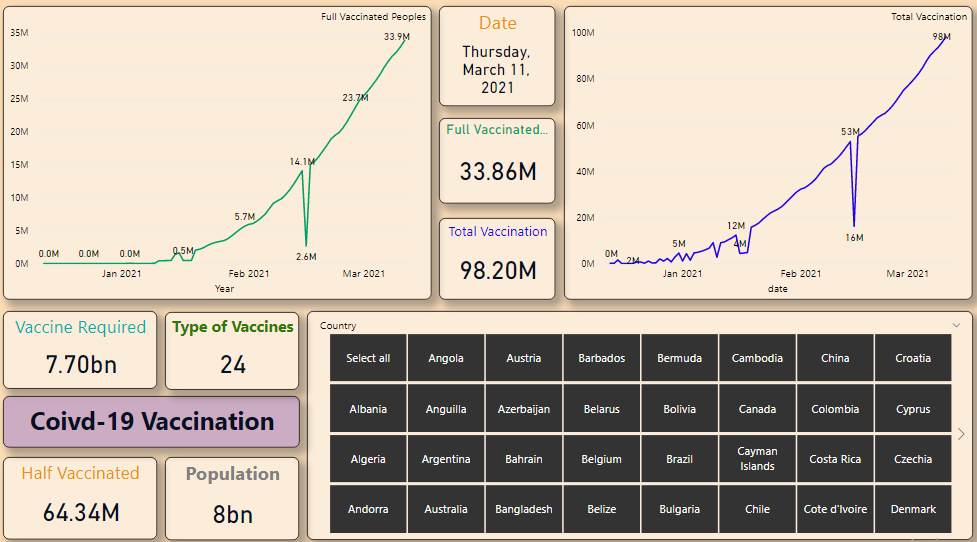

The page's visual inventory and layout, read from the dashboard file:
{"tool":"powerbi","page":{"name":"Coivd Vaccination","canvas":[1280,720],"ordinal":2},"visuals":[{"type":"lineChart","title":"Full Vaccinated Peoples","fields":{"Y":["Max(covid_vaccine_data.people_fully_vaccinated)"],"Category":["covid_vaccine_data.date.Variation.Date Hierarchy.Year","covid_vaccine_data.date.Variation.Date Hierarchy.Quarter","covid_vaccine_data.date.Variation.Date Hierarchy.Month","covid_vaccine_data.date.Variation.Date Hierarchy.Day"]},"box":[11.4,11.4,556,380.7],"z":0},{"type":"lineChart","title":"Total Vaccination","fields":{"Category":["covid_vaccine_data.date.Variation.Date Hierarchy.Year"],"Y":["Max(covid_vaccine_data.total_vaccinations)"]},"box":[740,11.4,530.4,380.7],"z":1000},{"type":"card","title":"Date","fields":{"Values":["Max(covid_vaccine_data.date)"]},"box":[577.4,11.4,151.1,129.7],"z":2000},{"type":"card","title":"Full Vaccinated People","fields":{"Values":["Max(covid_vaccine_data.people_fully_vaccinated)"]},"box":[577.4,156.8,151.1,111.2],"z":3000},{"type":"card","title":"Total Vaccination","fields":{"Values":["Max(covid_vaccine_data.total_vaccinations)"]},"box":[577.4,286.6,151.1,105.5],"z":4000},{"type":"card","title":"Vaccine Required","fields":{"Values":["population_data.Vaccine_Required"]},"box":[11.4,407.8,199.6,101.2],"z":5000},{"type":"slicer","fields":{"Values":["covid_vaccine_data.country"]},"box":[406.3,407.8,864,296.6],"z":6000},{"type":"card","title":"Half Vaccinated","fields":{"Values":["covid_vaccine_data.half_vaccinated"]},"box":[11.4,597.4,199.6,106.9],"z":7000},{"type":"textbox","box":[11.4,517.5,385,67],"z":8000},{"type":"card","title":"Type of Vaccines","fields":{"Values":["Count(covid_vaccine_data.vaccines)"]},"box":[222.1,408.3,173.8,100.7],"z":9000},{"type":"card","title":"Population","fields":{"Values":["Sum(population_data.Population)"]},"box":[222.1,597.2,173.8,107.6],"z":10000}]}

Visuals, with their boxes in screenshot pixels (x1, y1, x2, y2), scaled from the page's 1280x720 canvas onto the 977x542 screenshot:
"Full Vaccinated Peoples" lineChart: box(9, 9, 433, 295)
"Total Vaccination" lineChart: box(565, 9, 970, 295)
"Date" card: box(441, 9, 556, 106)
"Full Vaccinated People" card: box(441, 118, 556, 202)
"Total Vaccination" card: box(441, 216, 556, 295)
"Vaccine Required" card: box(9, 307, 161, 383)
slicer - covid_vaccine_data.country: box(310, 307, 970, 530)
"Half Vaccinated" card: box(9, 450, 161, 530)
textbox: box(9, 390, 303, 440)
"Type of Vaccines" card: box(170, 307, 302, 383)
"Population" card: box(170, 450, 302, 531)
